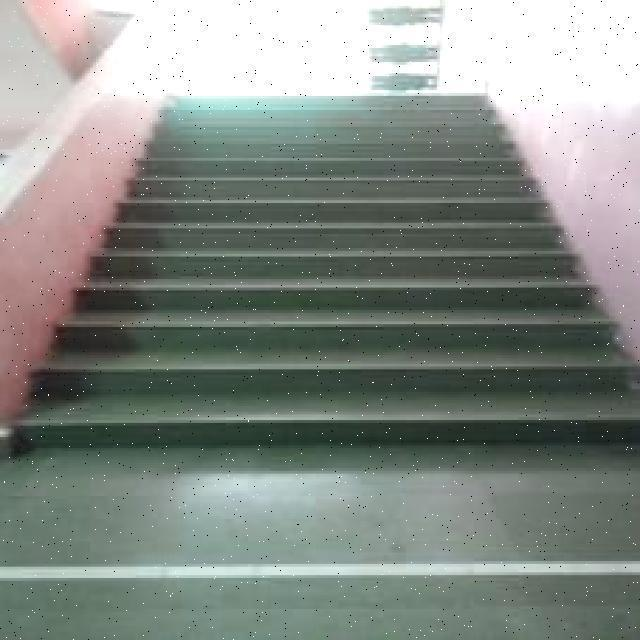Stairs: (50, 57, 626, 534)
